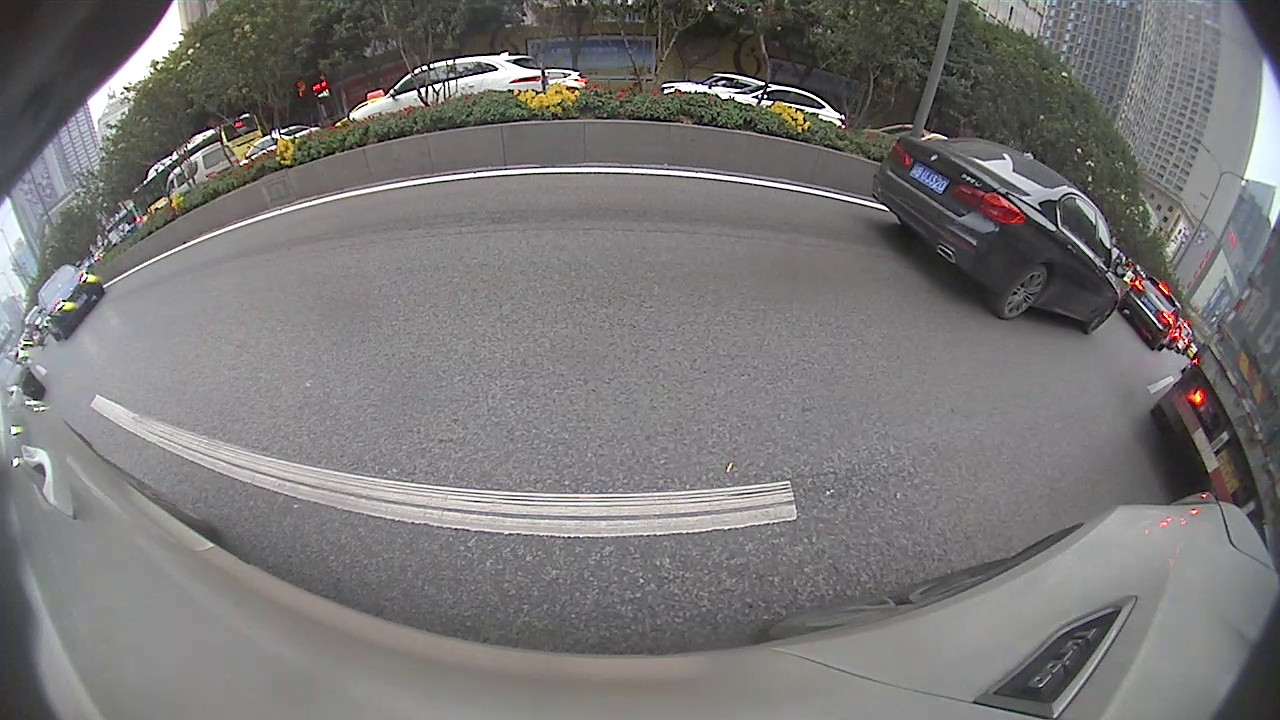car: (431, 158, 535, 223), (655, 150, 721, 199), (256, 205, 314, 231)
front: (524, 185, 536, 204)
person: (819, 147, 836, 189), (845, 150, 860, 193), (836, 152, 845, 190)
rear: (496, 190, 510, 213)
